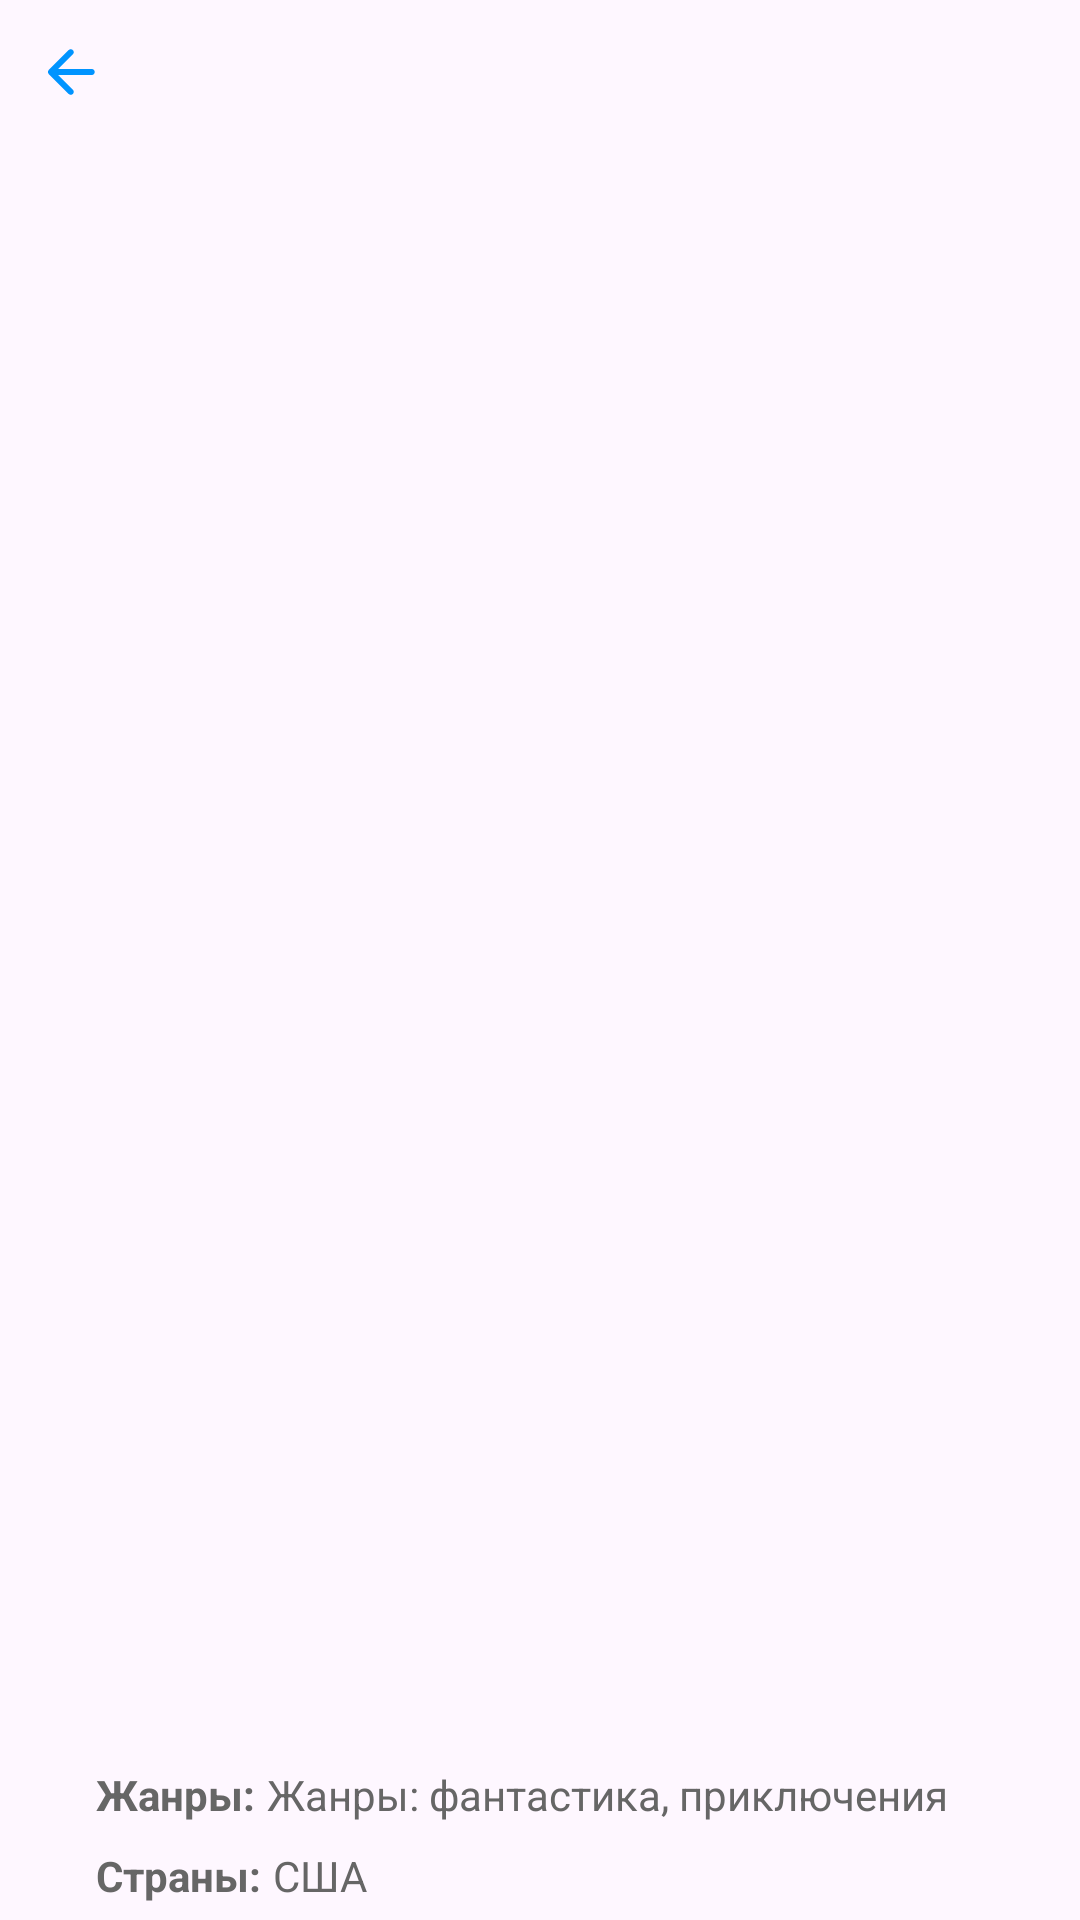

Where icons sit on this 1080 x 1920 app screen, as (x1=x1, y1=y1, x2=x2, y2=y2):
back: (x1=48, y1=49, x2=95, y2=95)
